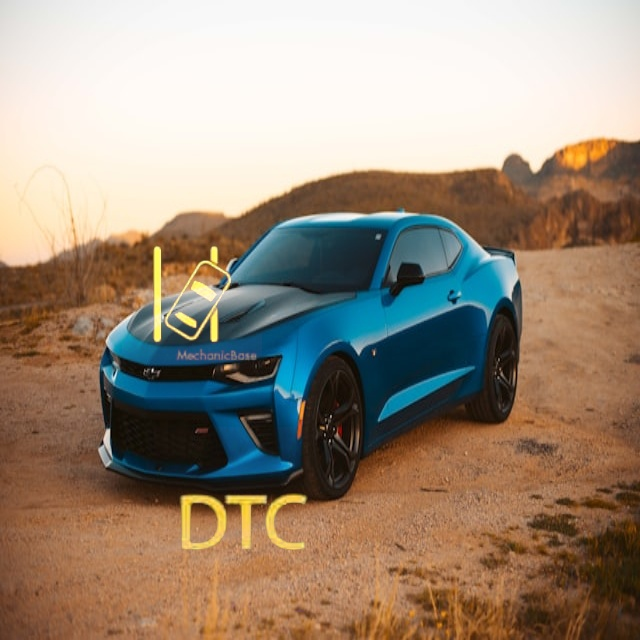symbol: (146, 427, 341, 622), (122, 227, 262, 367)
